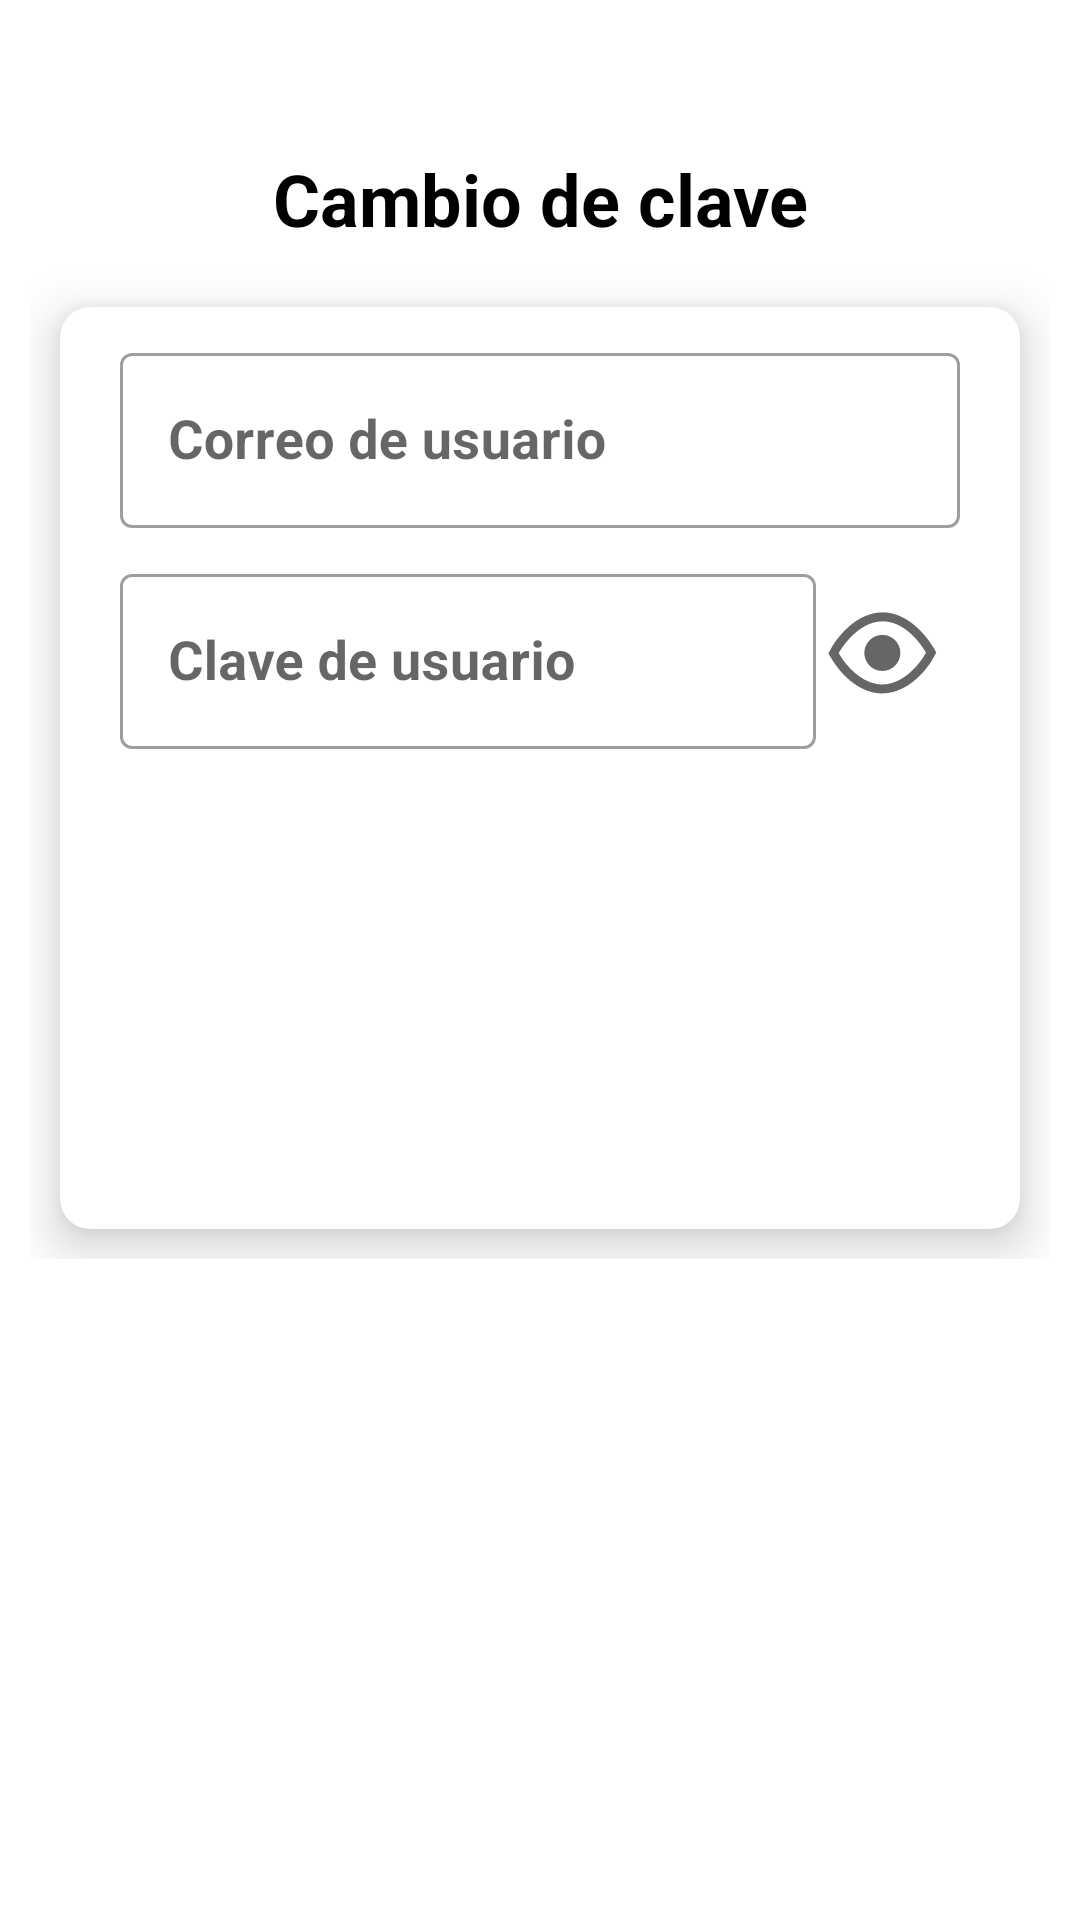

Locate icon controls on the screen. Image size 1080 x 1920, boxes as (x1, y1, x2, y2).
Ver clave: (828, 612, 936, 694)
